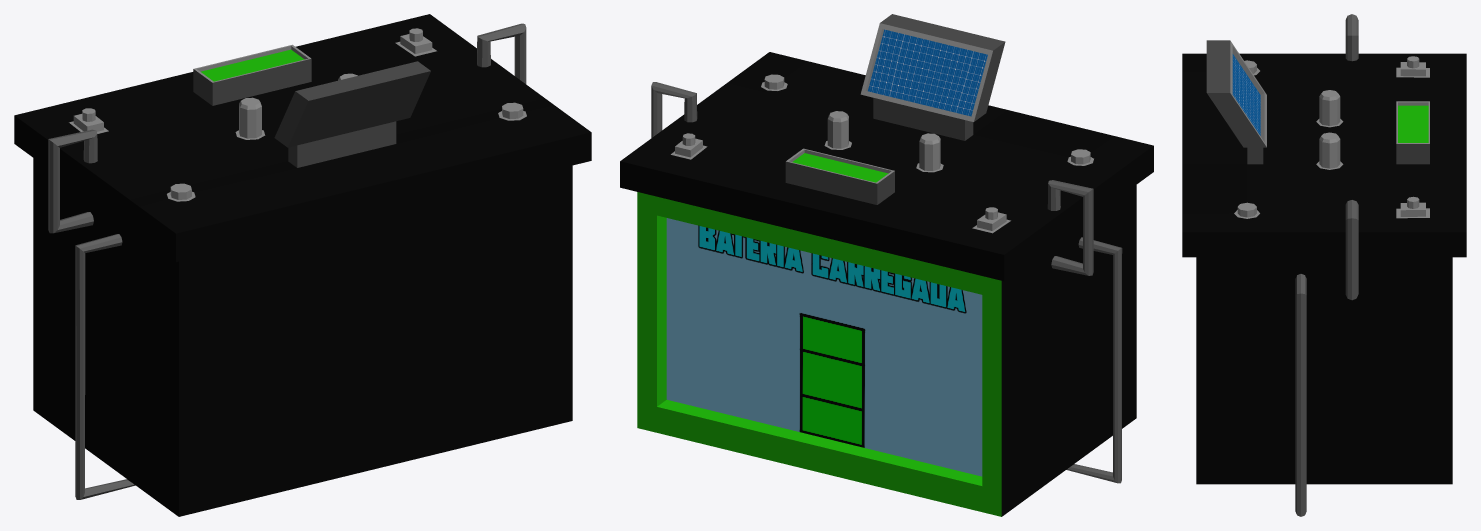
File: BatteryCharged.fbx
The picture shows the model from 3 angles, left to right: view 1: azimuth 30°, elevation 25°; view 2: azimuth 150°, elevation 25°; view 3: azimuth 270°, elevation 25°; orthographic projection. The views are drawn at different scales.
Visible parts, largest first — view 1: BatteryCharged; view 2: BatteryCharged; view 3: BatteryCharged.
Part boxes in pixels (x1,y1,x2,y2): BatteryCharged: (14, 14, 591, 516); BatteryCharged: (620, 14, 1153, 516); BatteryCharged: (1182, 14, 1466, 516).
Bounding box in the file's own units: 54.17 × 31.61 × 42.59.
Materials: 7 (2 with a texture image).
